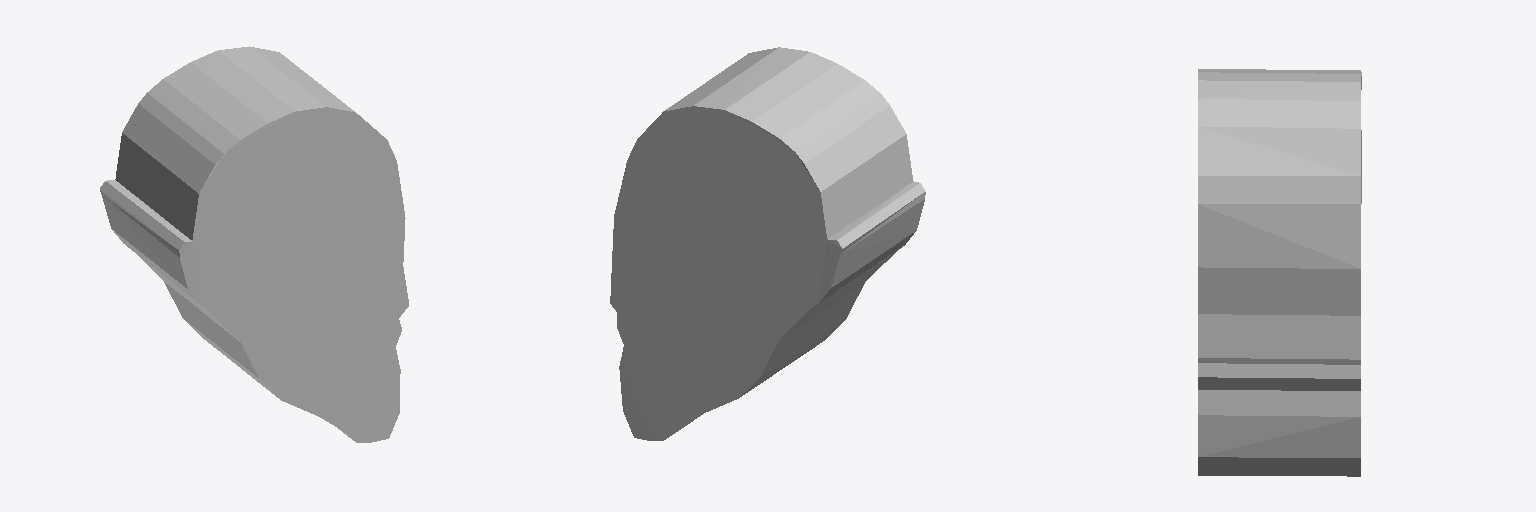
File: beardedHead.obj
3 renders of one model, left to right at view 1: azimuth 30°, elevation 25°; view 2: azimuth 150°, elevation 25°; view 3: azimuth 270°, elevation 25°, orthographic.
Visible parts, largest first — view 1: Cube.001_Cube.002; view 2: Cube.001_Cube.002; view 3: Cube.001_Cube.002.
Boxes of the visible parts, <box> form: Cube.001_Cube.002: <box>100,46,408,442</box>; Cube.001_Cube.002: <box>610,47,925,440</box>; Cube.001_Cube.002: <box>1198,69,1361,476</box>.
Size of the model in its own units: 0.4484 by 0.6408 by 0.2721.